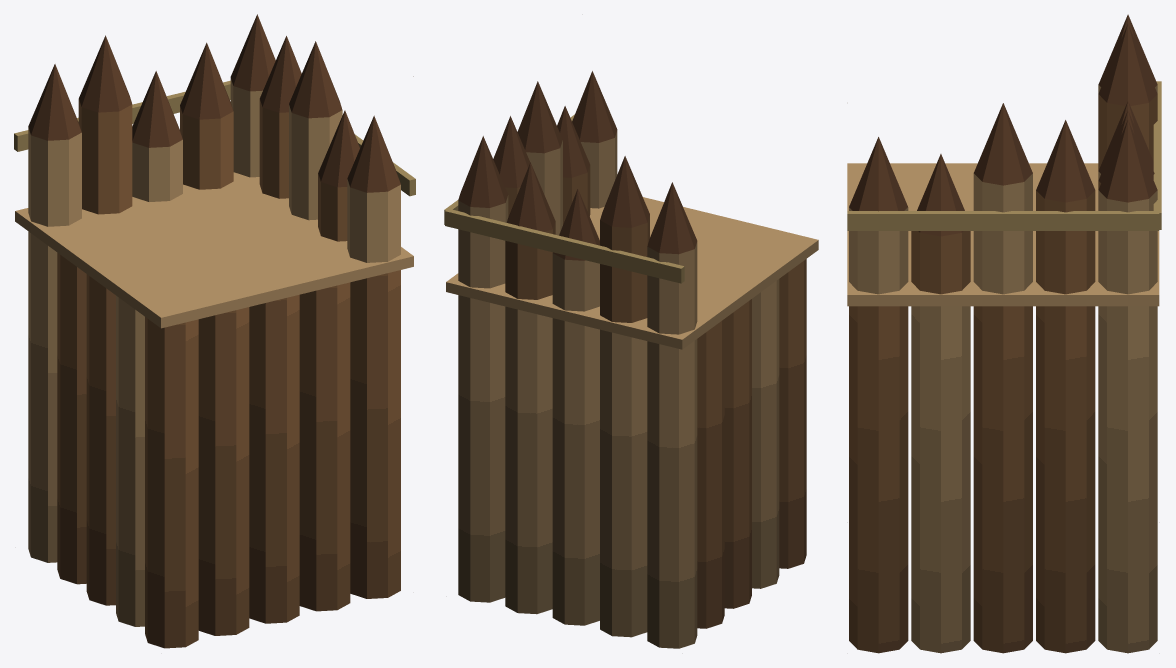
The model's file is perimeter_wall_wood_f12.glb.
3 renders of one model, left to right at view 1: azimuth 30°, elevation 25°; view 2: azimuth 150°, elevation 25°; view 3: azimuth 270°, elevation 25°, orthographic. The views are drawn at different scales.
Bounding box in the file's own units: 2.01 × 3.9 × 2.01.
1 material, 1 textured.
